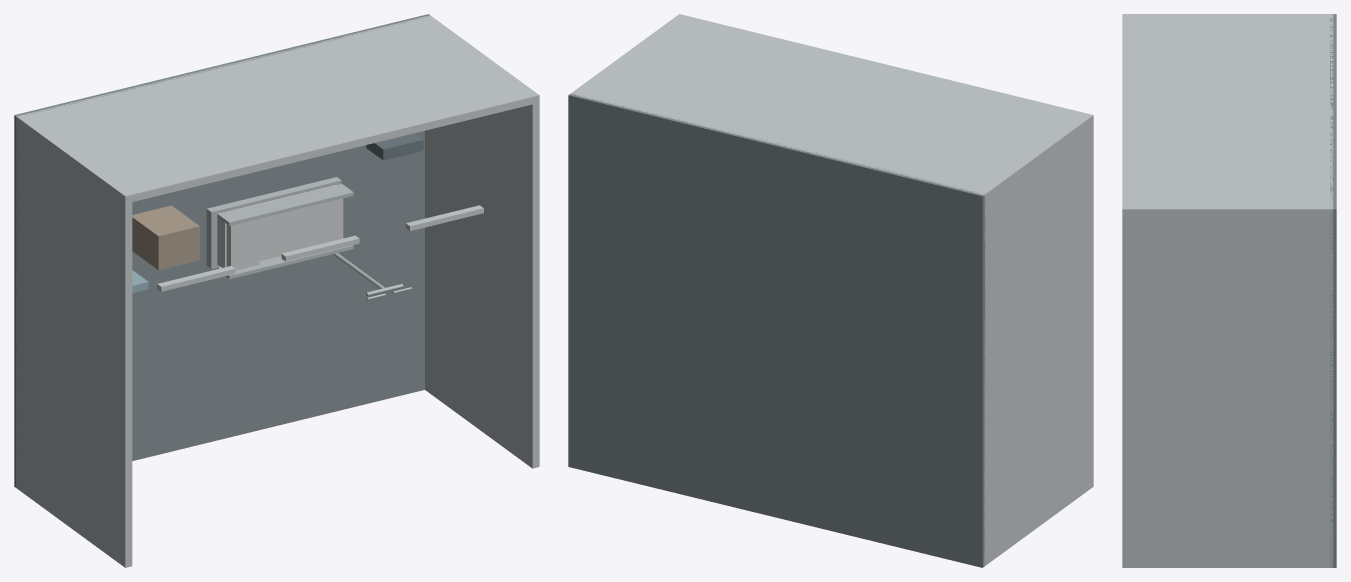
The model's file is patient-room-high.glb.
3 views of the same model, side by side, from view 1: azimuth 30°, elevation 25°; view 2: azimuth 150°, elevation 25°; view 3: azimuth 270°, elevation 25° (orthographic). The views are drawn at different scales.
Visible parts, largest first — view 1: floor, wall_back, wall_left, wall_right, bed, bedside_table, bed_rail_right, bed_frame, pillow, monitor, bed_rail_left, ceiling_panel_1 (+2 smaller); view 2: floor, wall_back, wall_left, wall_right; view 3: wall_right, wall_back, floor, wall_left.
Boxes of the visible parts, x1,y1,x2,y2 form: floor: (14, 14, 430, 487); wall_back: (16, 16, 538, 201); wall_left: (16, 114, 132, 567); wall_right: (424, 15, 539, 468); bed: (217, 185, 343, 267); bedside_table: (132, 205, 199, 270); bed_rail_right: (218, 184, 353, 225); bed_frame: (206, 177, 341, 268); pillow: (226, 219, 259, 270); monitor: (366, 133, 423, 160); bed_rail_left: (218, 245, 353, 279); ceiling_panel_1: (157, 266, 235, 291); floor: (568, 93, 985, 567); wall_back: (572, 14, 1093, 201); wall_left: (977, 113, 1093, 565); wall_right: (571, 14, 685, 95); wall_right: (1122, 206, 1333, 567); wall_back: (1122, 14, 1333, 216); floor: (1330, 14, 1336, 567); wall_left: (1122, 14, 1333, 17).
Size of the model in its own units: 7 by 6 by 3.25.
